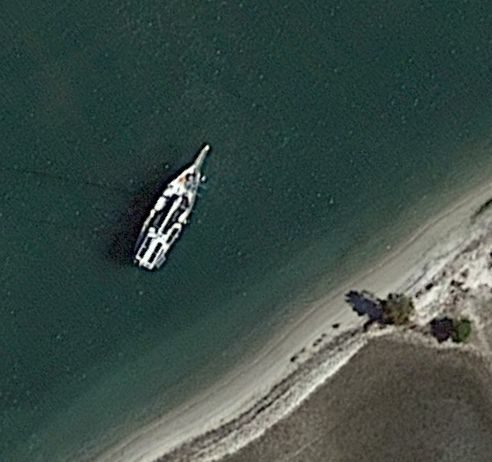boat: (132, 143, 208, 278)
